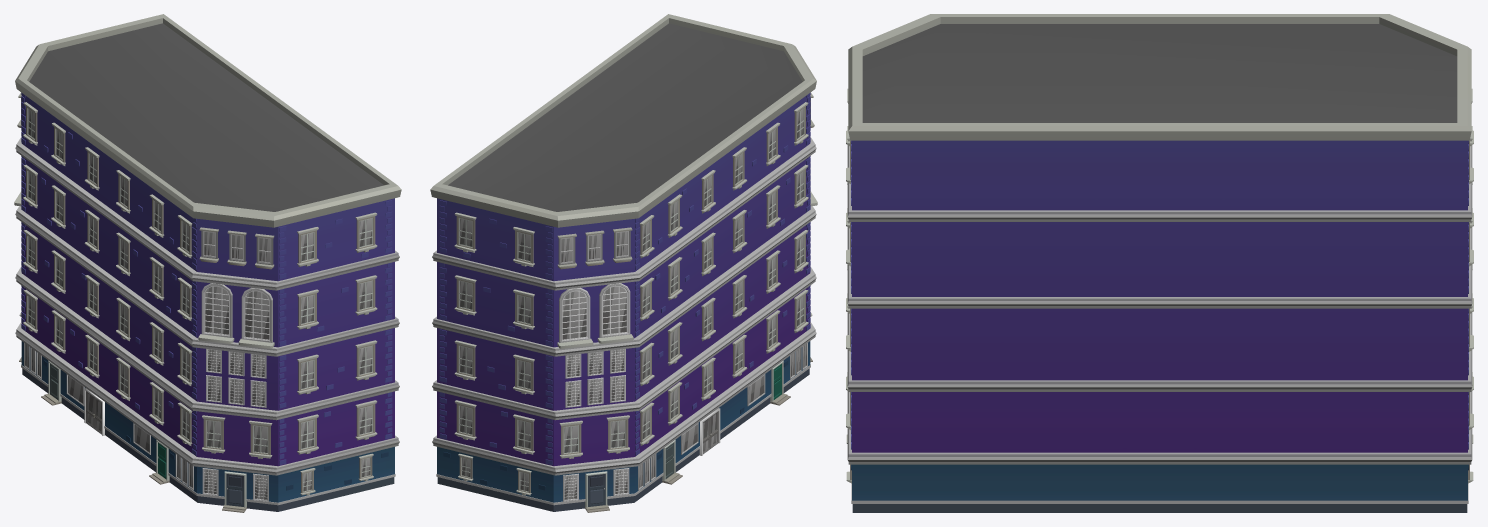
The model's file is Building_25_5_E.fbx.
3 renders of one model, left to right at view 1: azimuth 30°, elevation 25°; view 2: azimuth 150°, elevation 25°; view 3: azimuth 270°, elevation 25°, orthographic. The views are drawn at different scales.
Parts seen in each view (by area): view 1: Building_25_5_E; view 2: Building_25_5_E; view 3: Building_25_5_E.
Part boxes in pixels (x1,y1,x2,y2): Building_25_5_E: (14,14,401,512); Building_25_5_E: (430,14,817,512); Building_25_5_E: (846,14,1473,512).
Bounding box in the file's own units: 1291 × 2014 × 2941.
